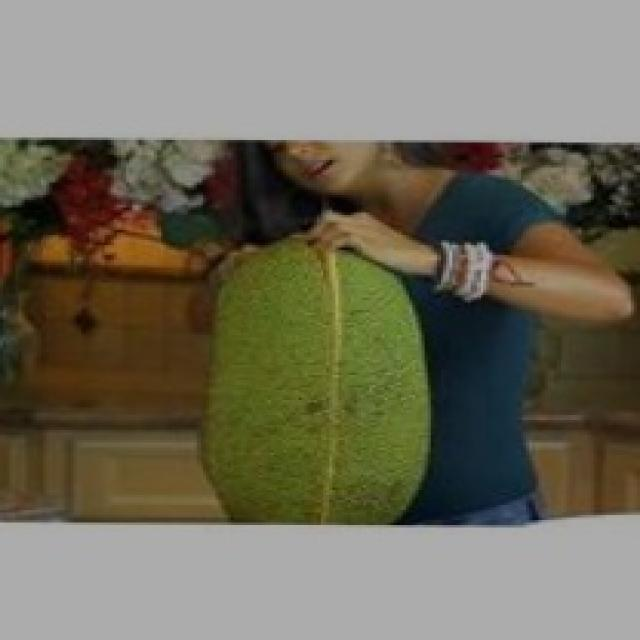Fruit: (178, 220, 468, 528)
